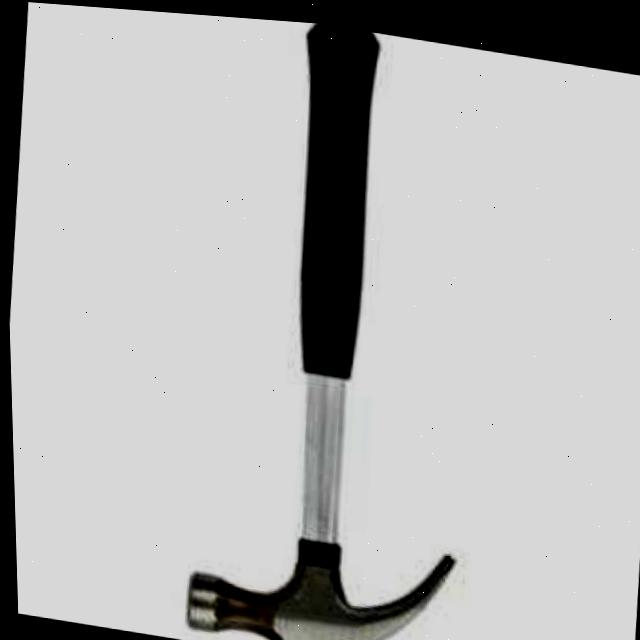hammer: (161, 9, 504, 640)
